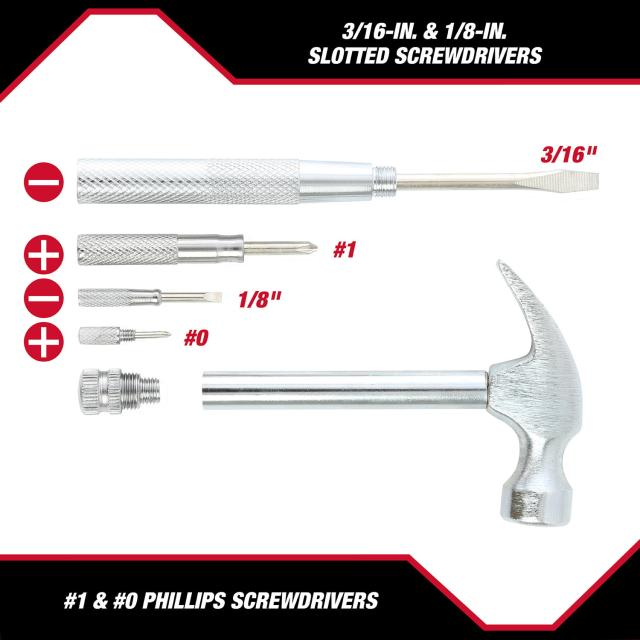Screwdriver: (78, 159, 599, 204), (78, 234, 318, 265), (78, 289, 221, 306), (79, 326, 171, 345)
